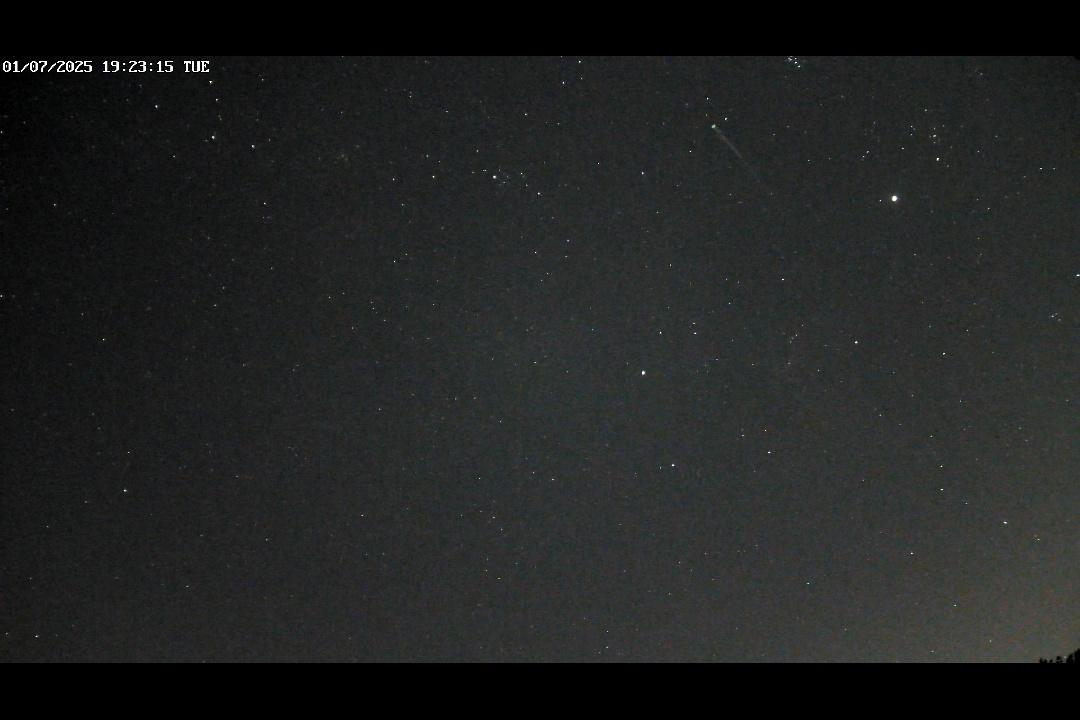Plane: (708, 121, 746, 161)
